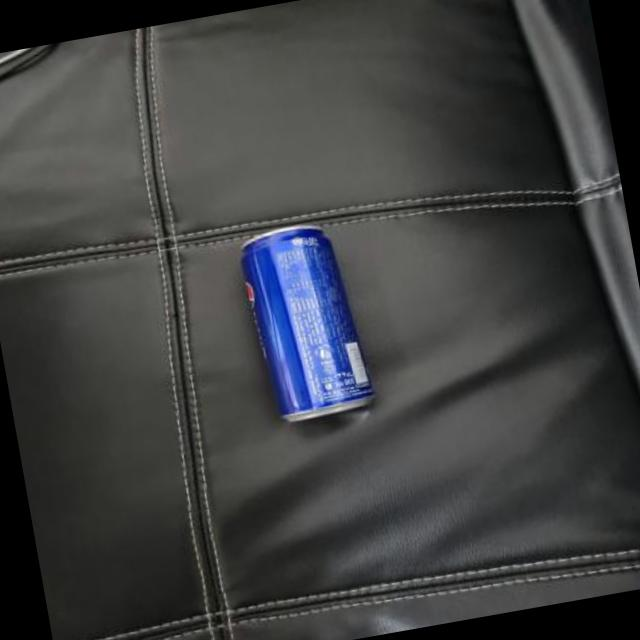metal: (242, 227, 372, 419)
